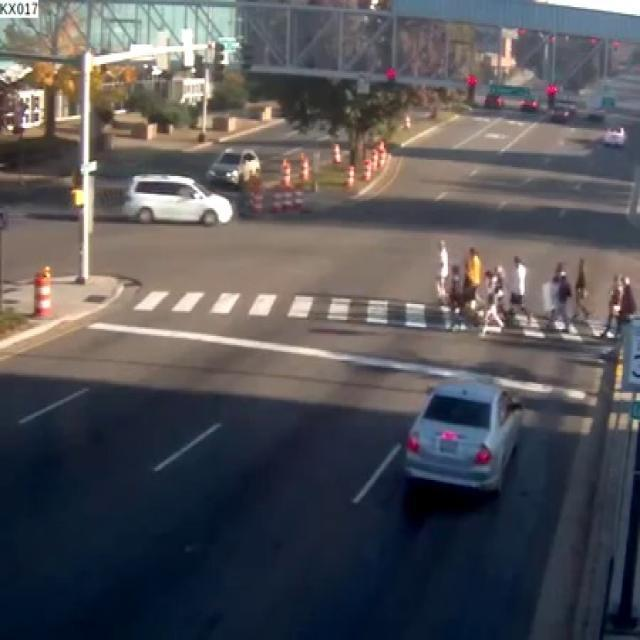car: (403, 381, 520, 489), (120, 173, 229, 222), (204, 146, 259, 183)
red_light: (464, 73, 476, 102), (546, 81, 557, 107), (383, 64, 394, 80)
stop_line: (88, 320, 586, 399)
